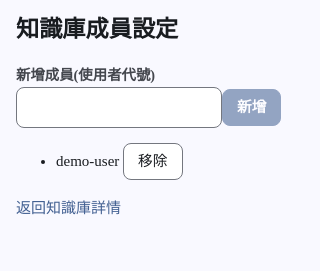
Test: KnowledgeMemberEditor (E05-S007) › disables the add form and every remove button while a request is in flight, preventing a second action from racing the first
expect the list item "demo-user" is shown: met, box [56,153,119,169]
In the field labelled "新增成員(使用者代號)": (119, 108) [16,88,222,128], type "demo-sales"
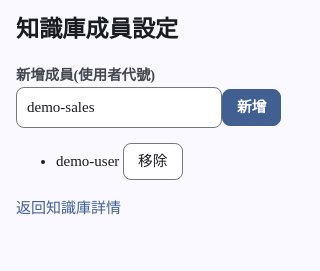
Click the button "新增": (252, 108) [222,90,282,126]
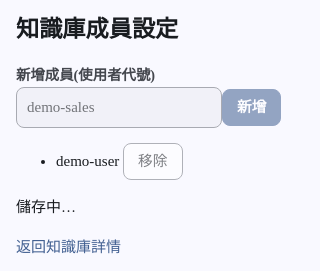
expect the message reads "儲存中…": met, box [16,198,76,214]
expect the field labelled "新增成員(使用者代號)" is disabled: met, box [16,88,222,128]
expect the button "新增" is disabled: met, box [222,90,282,126]
